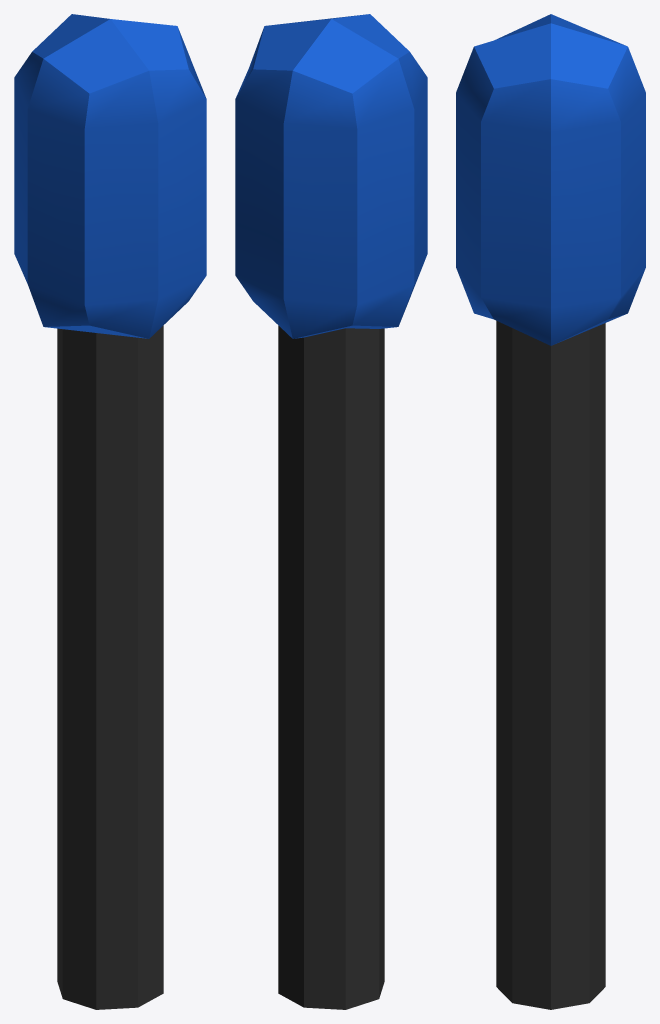
File: Palanca04.fbx
The picture shows the model from 3 angles, left to right: view 1: azimuth 30°, elevation 25°; view 2: azimuth 150°, elevation 25°; view 3: azimuth 270°, elevation 25°; orthographic projection.
Visible parts, largest first — view 1: Palanca04; view 2: Palanca04; view 3: Palanca04.
Boxes of the visible parts, x1,y1,x2,y2 form: Palanca04: [14, 14, 206, 1009]; Palanca04: [235, 14, 427, 1009]; Palanca04: [456, 14, 645, 1009].
Bounding box in the file's own units: 5.74 × 32.13 × 5.74.
